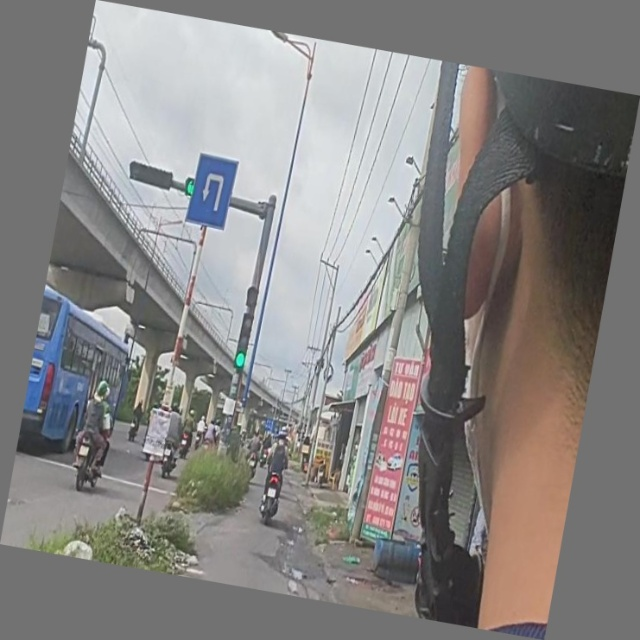I.409: (183, 144, 247, 246)
